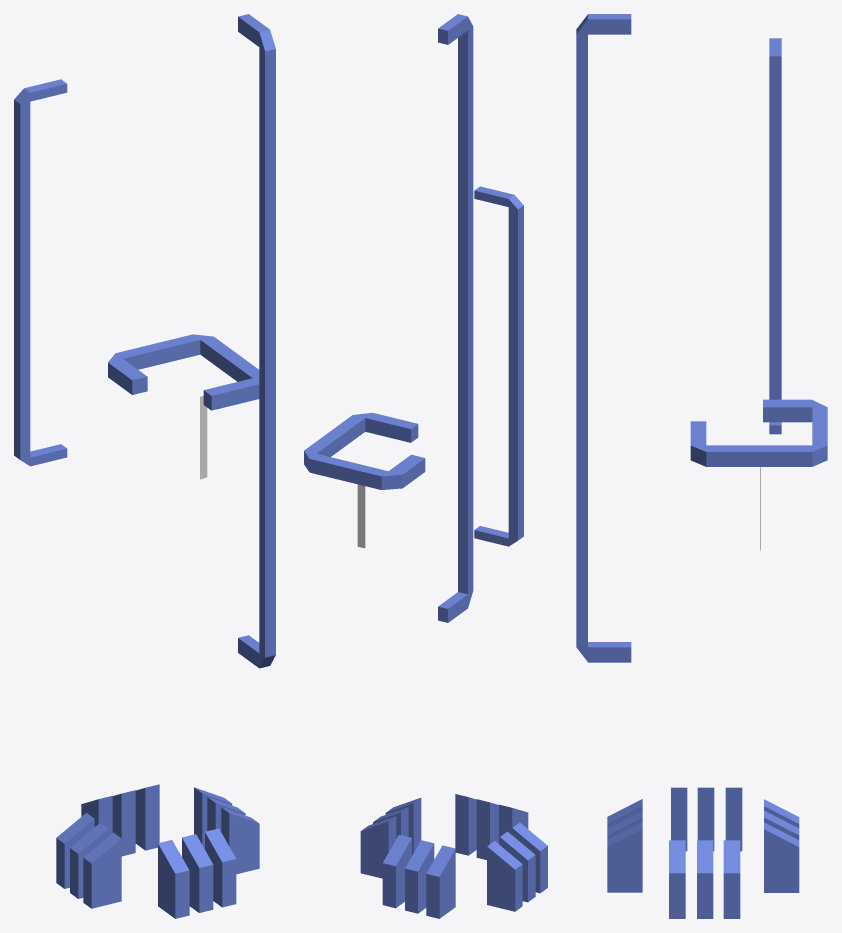
File: Capitoly_Pipe.fbx
3 renders of one model, left to right at view 1: azimuth 30°, elevation 25°; view 2: azimuth 150°, elevation 25°; view 3: azimuth 270°, elevation 25°, orthographic. The views are drawn at different scales.
Parts seen in each view (by area): view 1: Capitoly_Pipe; view 2: Capitoly_Pipe; view 3: Capitoly_Pipe.
Part boxes in pixels (<box>): Capitoly_Pipe: <box>14,14,275,918</box>; Capitoly_Pipe: <box>304,14,547,918</box>; Capitoly_Pipe: <box>576,14,827,918</box>.
Bounding box in the file's own units: 299 × 1165 × 299.
